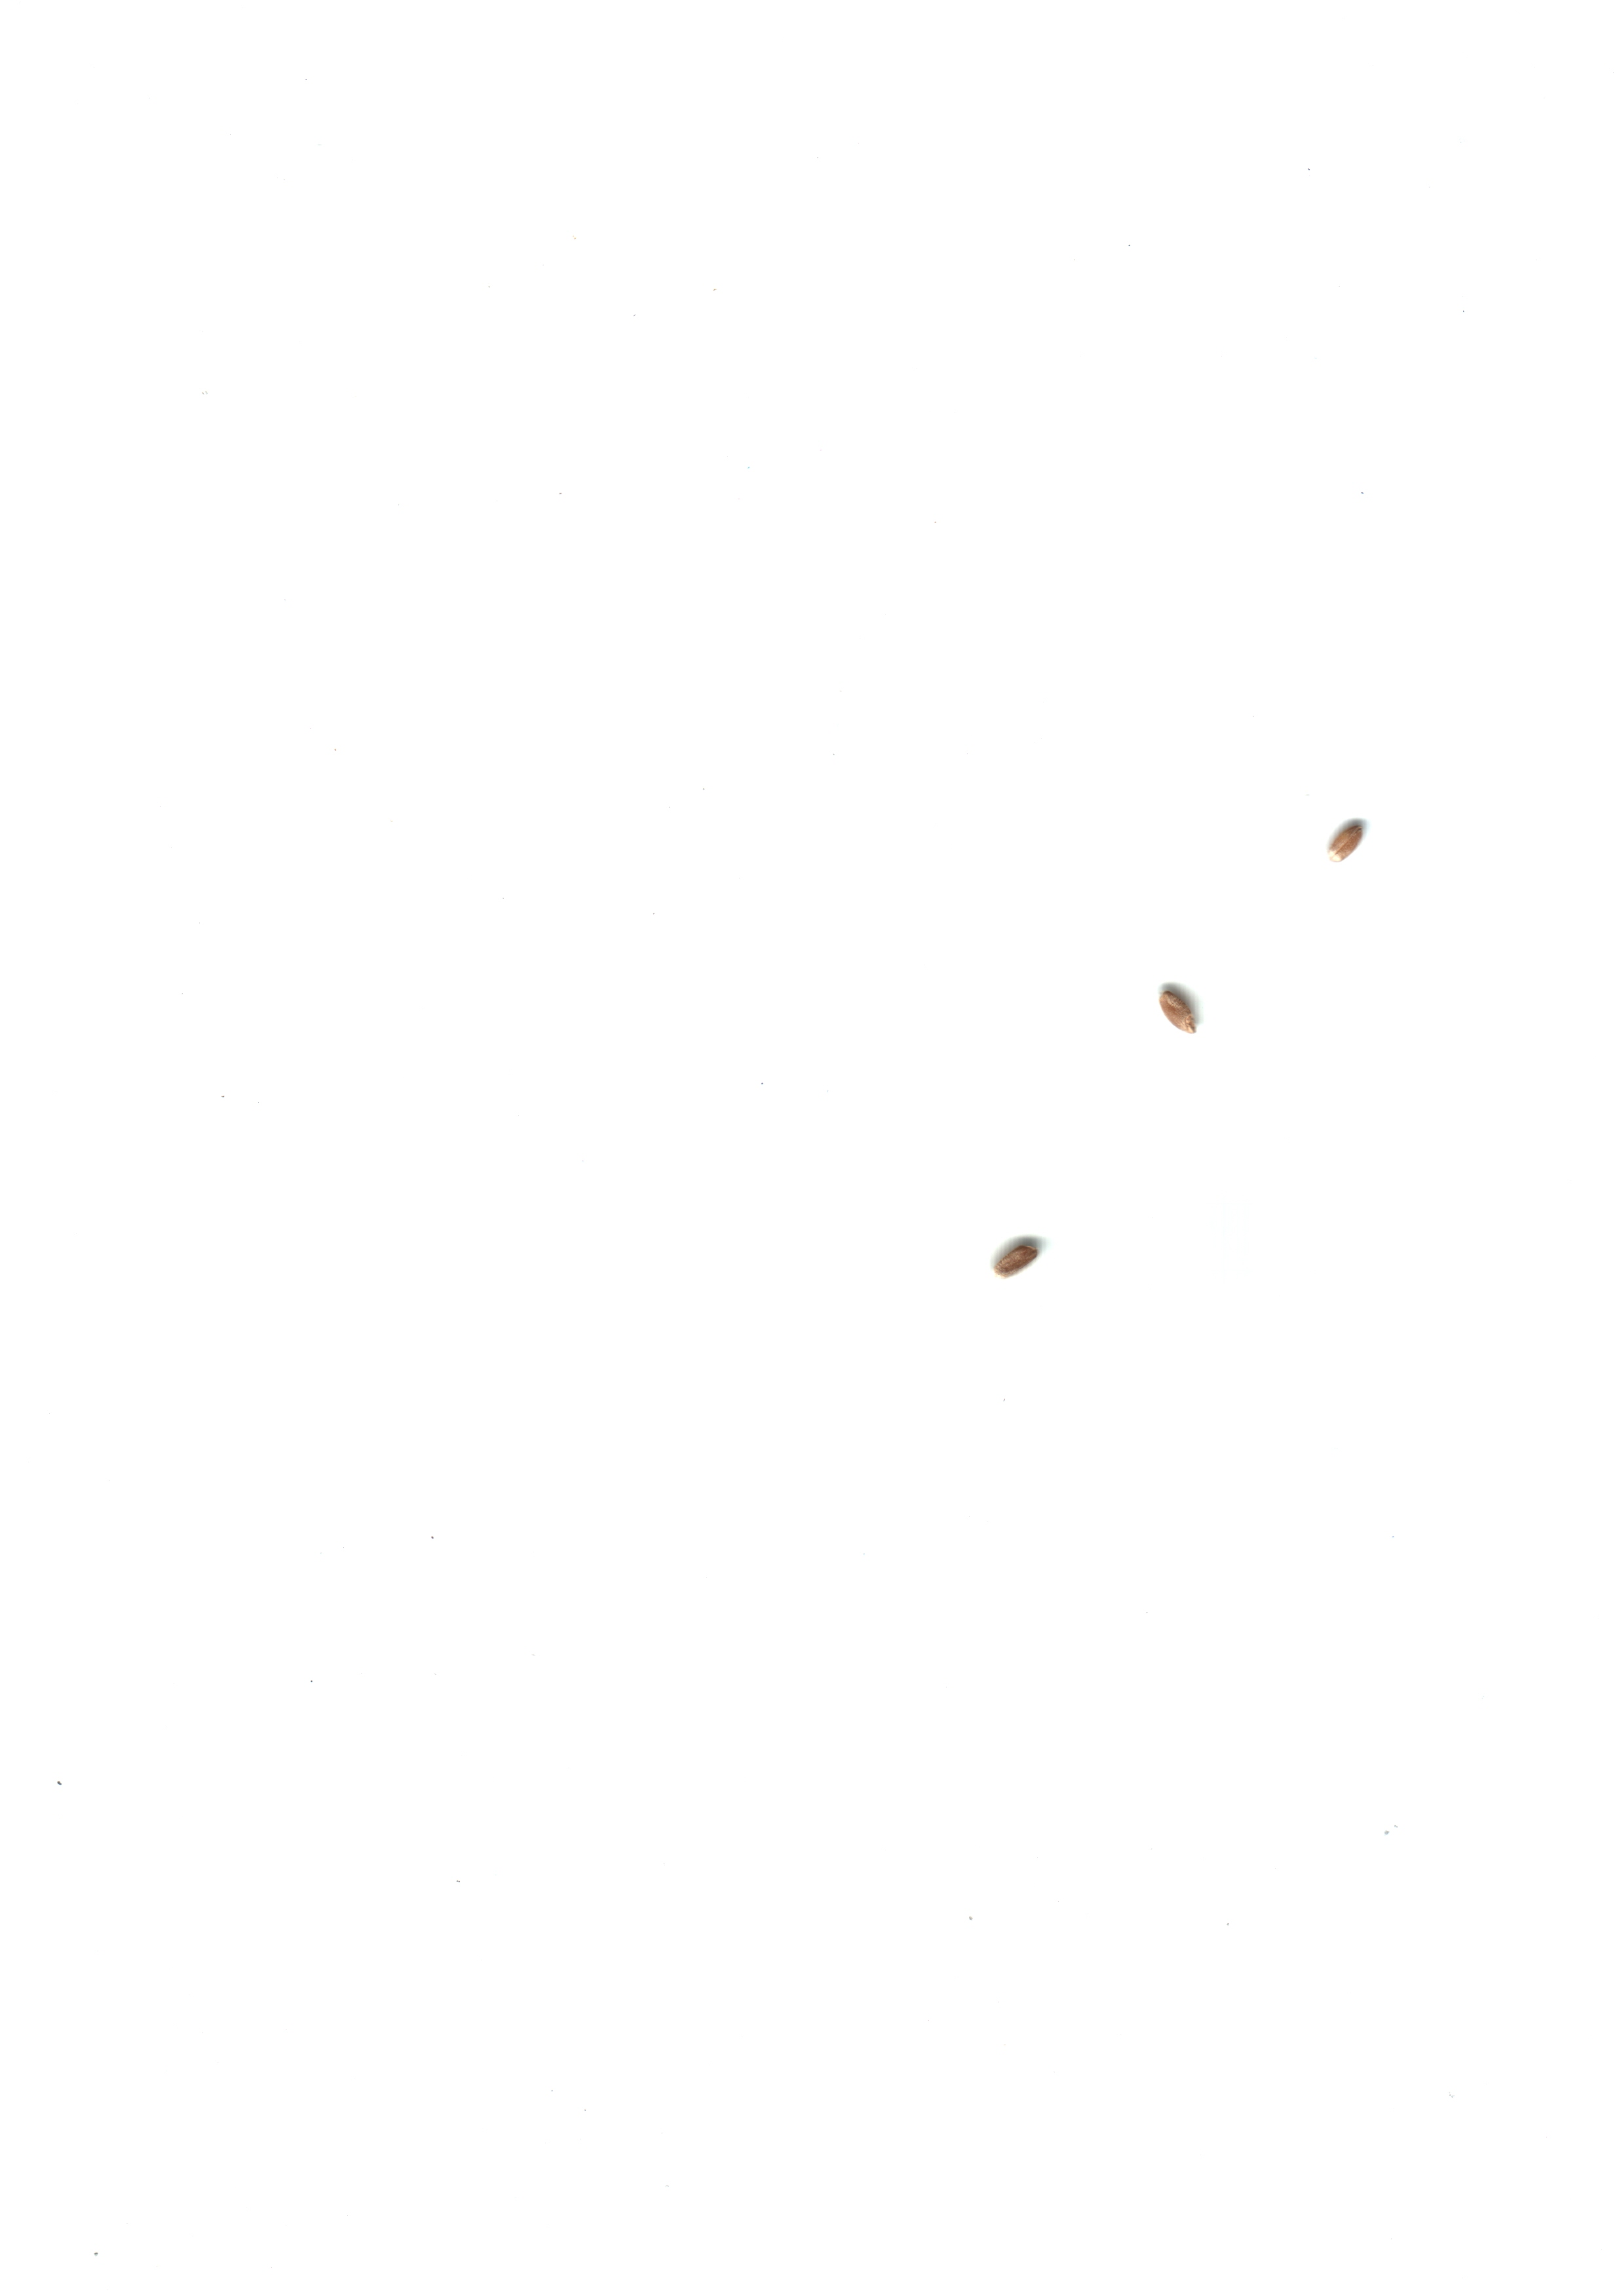grains_3mm: (967, 1218, 1062, 1306), (1137, 964, 1232, 1050), (1304, 804, 1398, 890)
